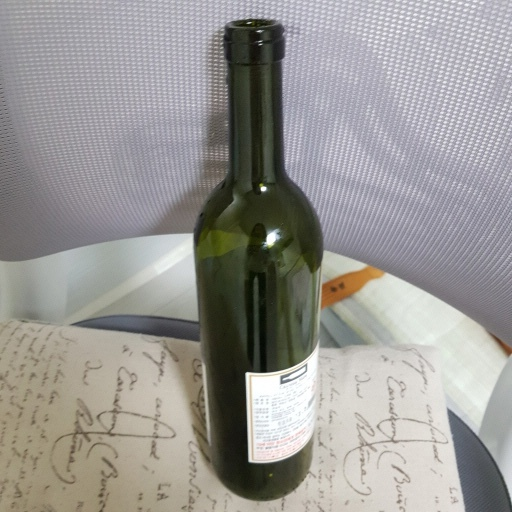Glass_2: (189, 17, 327, 501)
